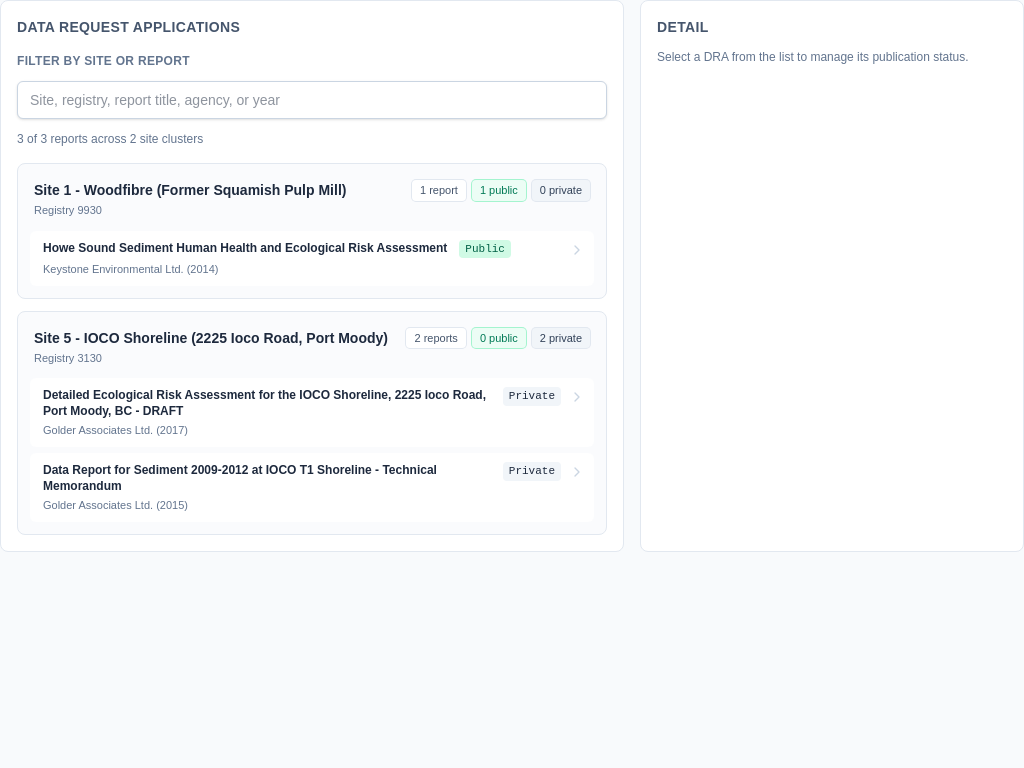
Scenario: DraPublishControl › filters the DRA list by site name, registry id, and report text
Type "IOCO" into the search field labelled "Filter by site or report" at point(312, 100), box left=17, top=81, right=607, bottom=119
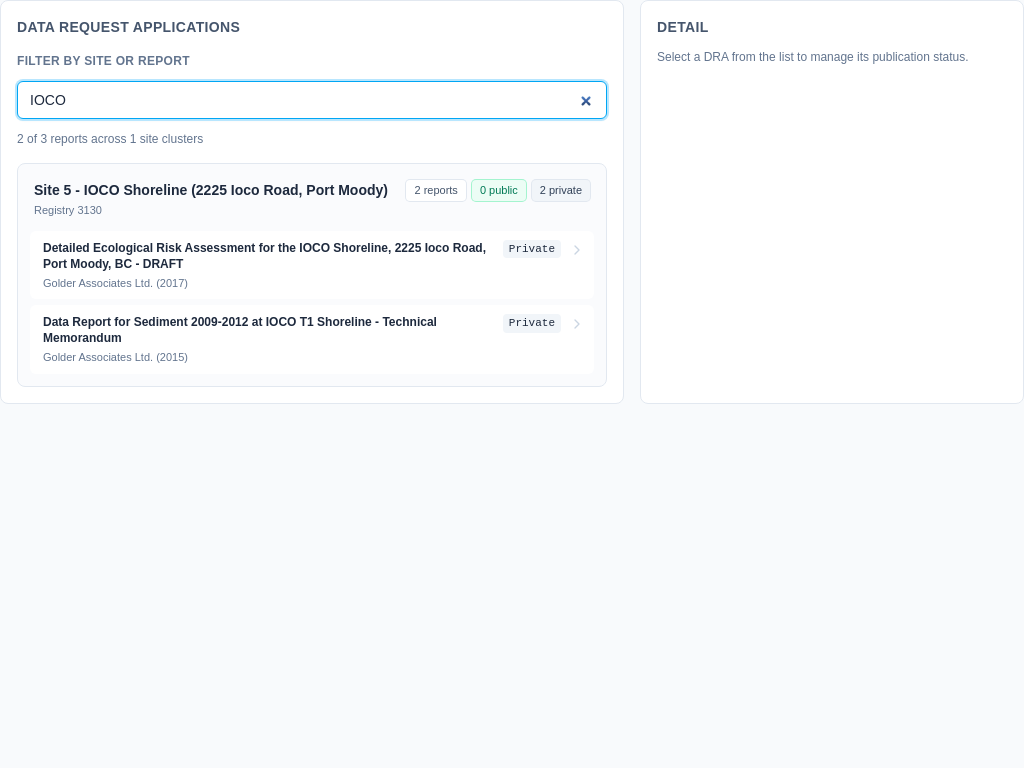
Expected: the heading "Site 5 - IOCO Shoreline (2225 Ioco Road, Port Moody)" is shown, left=34, top=180, right=388, bottom=200
Expected: the heading "Site 1 - Woodfibre (Former Squamish Pulp Mill)" is gone
